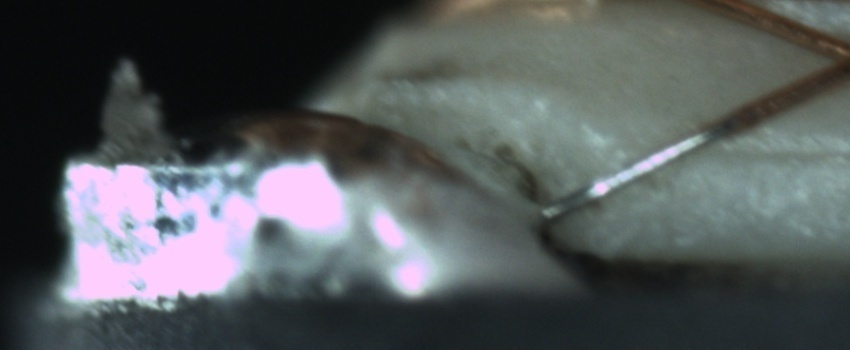CL: (802, 23, 849, 92)
DL: (693, 119, 850, 188)
TS: (539, 125, 729, 227)
